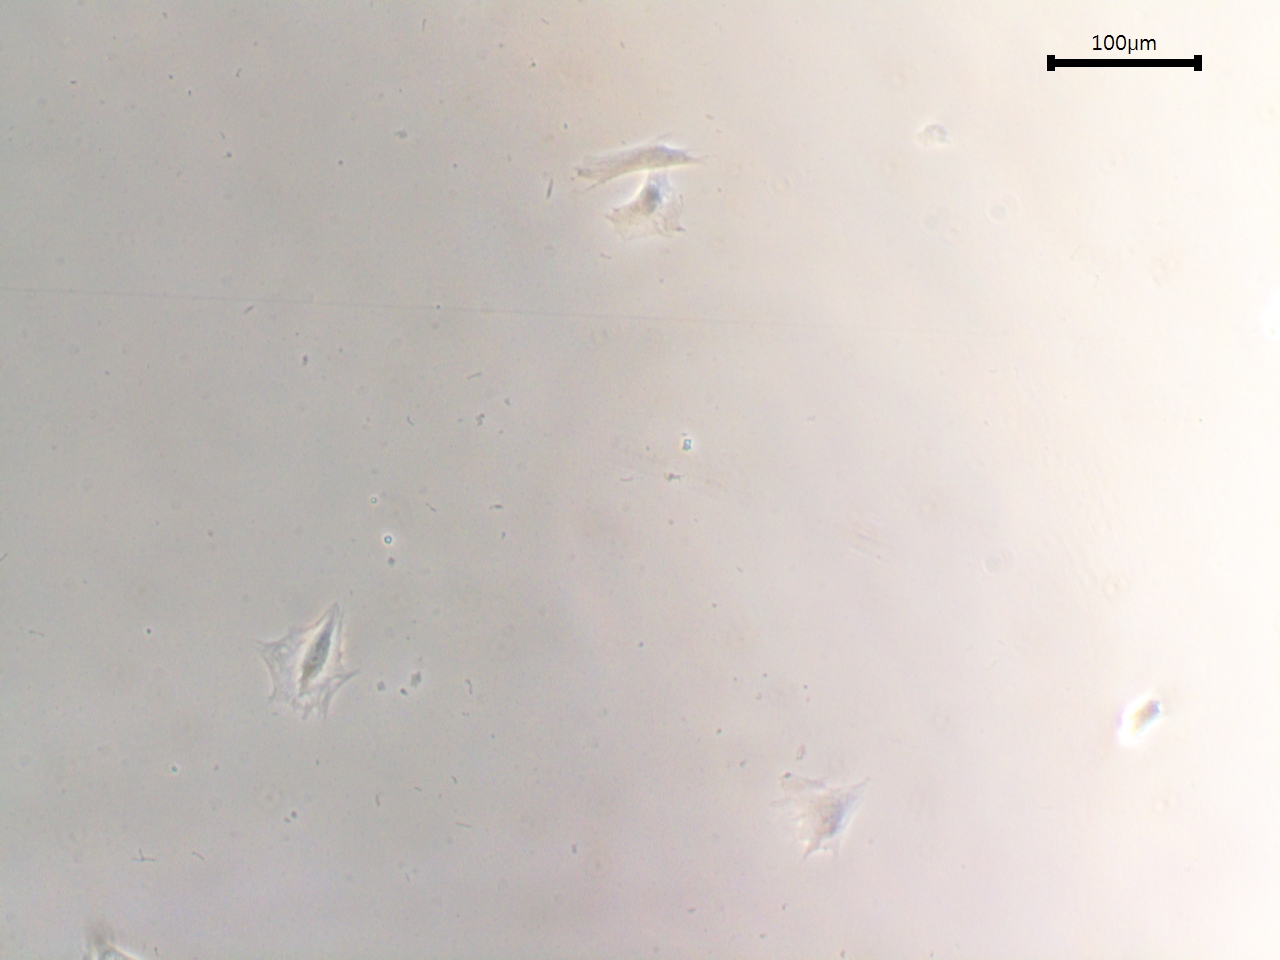medium-spread: (254, 597, 365, 738), (755, 762, 882, 869)
small-polygonal: (566, 126, 703, 198)
small-spread: (609, 167, 698, 247)
